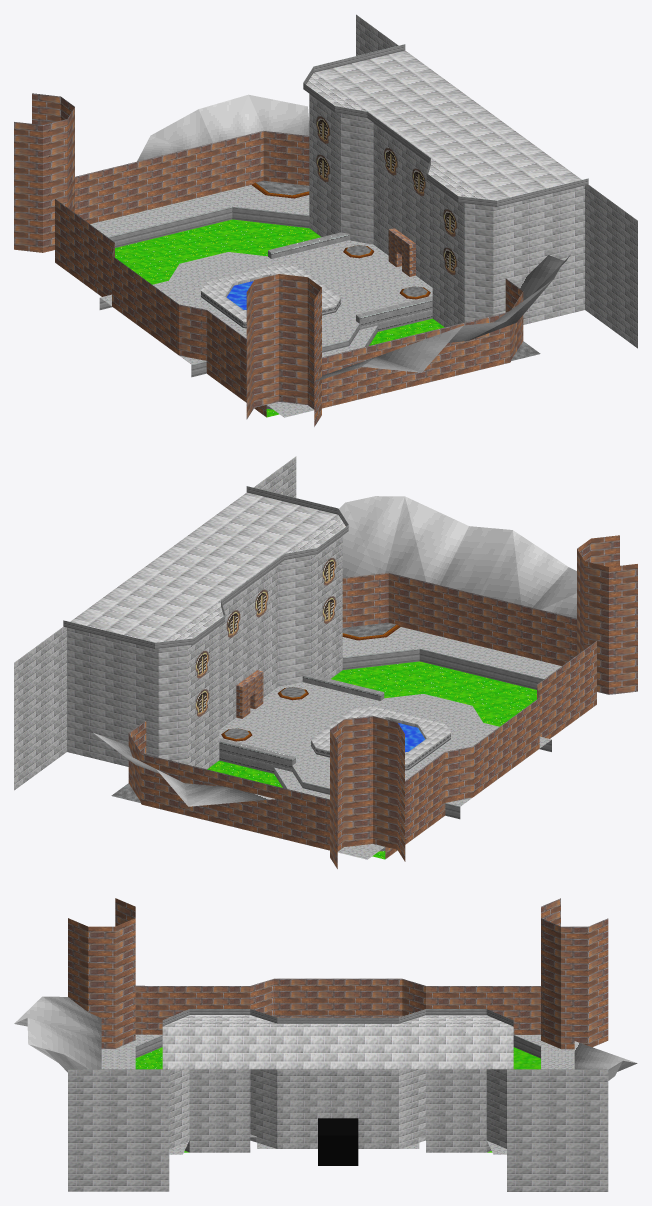
The model's file is CastleModel.obj.
3 renders of one model, top to bottom at view 1: azimuth 30°, elevation 25°; view 2: azimuth 150°, elevation 25°; view 3: azimuth 270°, elevation 25°, orthographic. The views are drawn at different scales.
Parts seen in each view (by area): view 1: Shape_IndexedFaceSet.019_Shape_IndexedFaceSet.433, Shape_IndexedFaceSet.020_Shape_IndexedFaceSet.434, Shape_IndexedFaceSet.014_Shape_IndexedFaceSet.428, Shape_IndexedFaceSet.018_Shape_IndexedFaceSet.432, Shape_IndexedFaceSet.012_Shape_IndexedFaceSet.426, Shape_IndexedFaceSet.013_Shape_IndexedFaceSet.427, Shape_IndexedFaceSet.048_Shape_IndexedFaceSet.462, Shape_IndexedFaceSet.010_Shape_IndexedFaceSet.424; view 2: Shape_IndexedFaceSet.019_Shape_IndexedFaceSet.433, Shape_IndexedFaceSet.020_Shape_IndexedFaceSet.434, Shape_IndexedFaceSet.018_Shape_IndexedFaceSet.432, Shape_IndexedFaceSet.014_Shape_IndexedFaceSet.428, Shape_IndexedFaceSet.012_Shape_IndexedFaceSet.426, Shape_IndexedFaceSet.013_Shape_IndexedFaceSet.427, Shape_IndexedFaceSet.048_Shape_IndexedFaceSet.462, Shape_IndexedFaceSet.010_Shape_IndexedFaceSet.424; view 3: Shape_IndexedFaceSet.019_Shape_IndexedFaceSet.433, Shape_IndexedFaceSet.020_Shape_IndexedFaceSet.434, Shape_IndexedFaceSet.018_Shape_IndexedFaceSet.432, Shape_IndexedFaceSet.012_Shape_IndexedFaceSet.426, Shape_IndexedFaceSet.014_Shape_IndexedFaceSet.428, Shape_IndexedFaceSet.021_Shape_IndexedFaceSet.435, Shape_IndexedFaceSet.013_Shape_IndexedFaceSet.427.
Part boxes in pixels (box(x1,y1,x2,y2)): Shape_IndexedFaceSet.019_Shape_IndexedFaceSet.433: box(201, 14, 637, 348); Shape_IndexedFaceSet.020_Shape_IndexedFaceSet.434: box(14, 93, 523, 426); Shape_IndexedFaceSet.014_Shape_IndexedFaceSet.428: box(90, 185, 432, 417); Shape_IndexedFaceSet.018_Shape_IndexedFaceSet.432: box(137, 94, 570, 381); Shape_IndexedFaceSet.012_Shape_IndexedFaceSet.426: box(99, 44, 588, 409); Shape_IndexedFaceSet.013_Shape_IndexedFaceSet.427: box(115, 219, 444, 417); Shape_IndexedFaceSet.048_Shape_IndexedFaceSet.462: box(316, 116, 456, 274); Shape_IndexedFaceSet.010_Shape_IndexedFaceSet.424: box(256, 180, 540, 360); Shape_IndexedFaceSet.019_Shape_IndexedFaceSet.433: box(14, 456, 450, 790); Shape_IndexedFaceSet.020_Shape_IndexedFaceSet.434: box(128, 535, 637, 868); Shape_IndexedFaceSet.018_Shape_IndexedFaceSet.432: box(93, 496, 576, 806); Shape_IndexedFaceSet.014_Shape_IndexedFaceSet.428: box(219, 627, 561, 859); Shape_IndexedFaceSet.012_Shape_IndexedFaceSet.426: box(63, 486, 551, 851); Shape_IndexedFaceSet.013_Shape_IndexedFaceSet.427: box(207, 661, 536, 859); Shape_IndexedFaceSet.048_Shape_IndexedFaceSet.462: box(195, 558, 336, 716); Shape_IndexedFaceSet.010_Shape_IndexedFaceSet.424: box(111, 622, 396, 802); Shape_IndexedFaceSet.019_Shape_IndexedFaceSet.433: box(68, 1015, 608, 1191); Shape_IndexedFaceSet.020_Shape_IndexedFaceSet.434: box(68, 898, 608, 1049); Shape_IndexedFaceSet.018_Shape_IndexedFaceSet.432: box(14, 996, 637, 1080); Shape_IndexedFaceSet.012_Shape_IndexedFaceSet.426: box(135, 1009, 540, 1152); Shape_IndexedFaceSet.014_Shape_IndexedFaceSet.428: box(101, 1034, 574, 1154); Shape_IndexedFaceSet.021_Shape_IndexedFaceSet.435: box(318, 1118, 358, 1165); Shape_IndexedFaceSet.013_Shape_IndexedFaceSet.427: box(135, 1047, 540, 1152).
Bounding box in the file's own units: 6.14 × 2.35 × 9.46.
